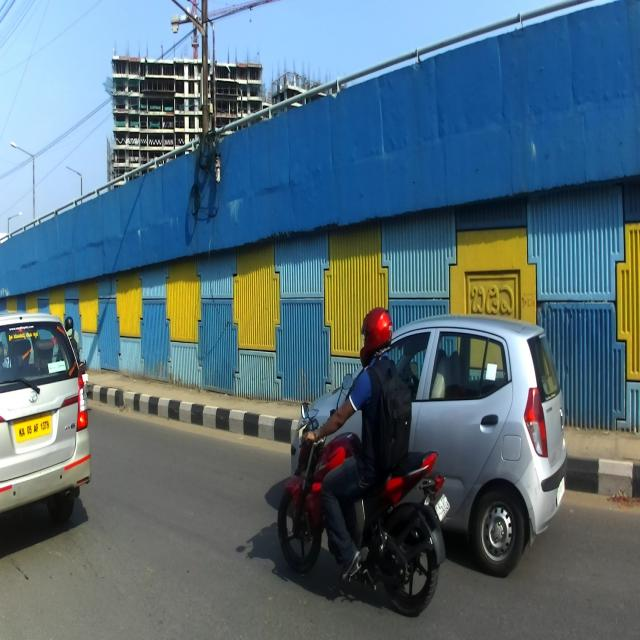Car_Hyundai: (286, 312, 568, 575)
Car_Toyota: (0, 311, 92, 534)
motorcycle_Yamaha: (278, 371, 450, 618)
